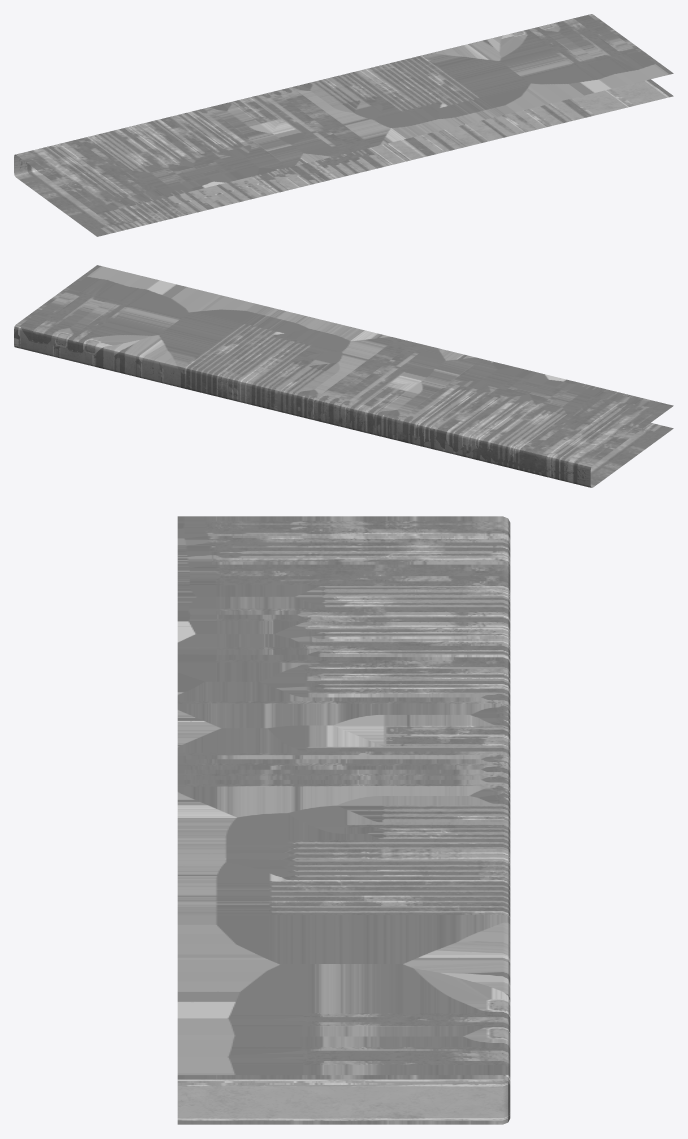
The model's file is SM_Building04_Canopy1R.fbx.
3 renders of one model, top to bottom at view 1: azimuth 30°, elevation 25°; view 2: azimuth 150°, elevation 25°; view 3: azimuth 270°, elevation 25°, orthographic. The views are drawn at different scales.
Parts seen in each view (by area): view 1: SM_Building04_Canopy1R_LOD0; view 2: SM_Building04_Canopy1R_LOD0; view 3: SM_Building04_Canopy1R_LOD0.
Part boxes in pixels (x1,y1,x2,y2): SM_Building04_Canopy1R_LOD0: (14, 14, 673, 236); SM_Building04_Canopy1R_LOD0: (14, 265, 673, 487); SM_Building04_Canopy1R_LOD0: (177, 516, 510, 1124).
Size of the model in its own units: 400 by 100 by 15.
